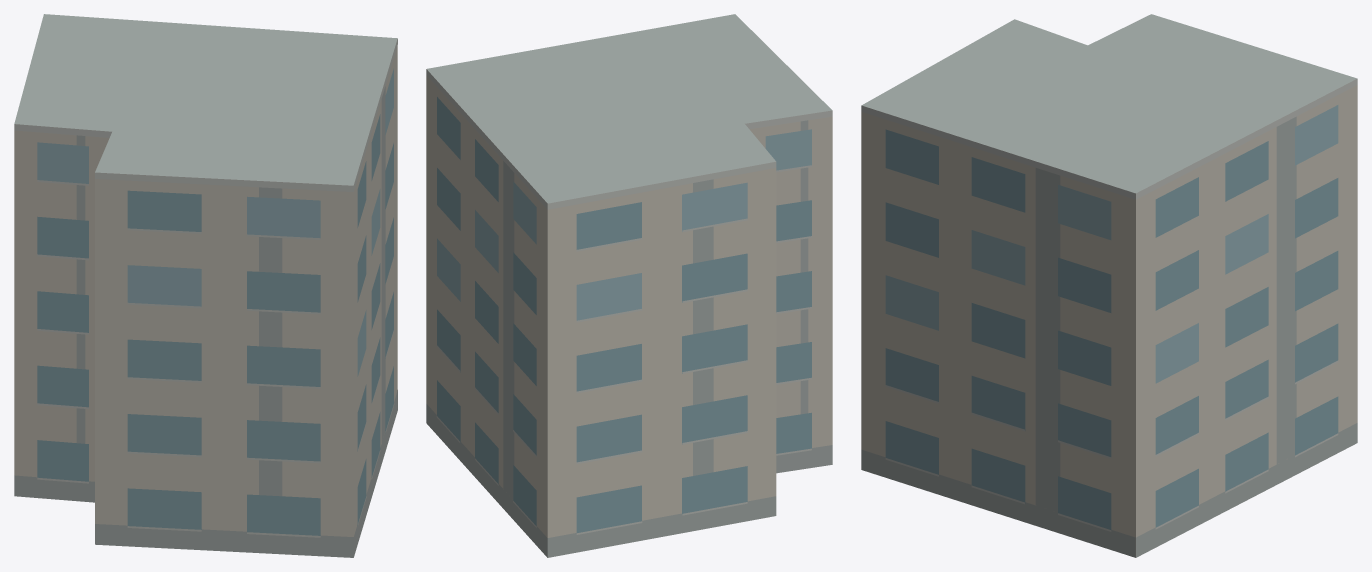
File: survey-upis-33006635.glb
3 views of the same model, side by side, from view 1: azimuth 30°, elevation 25°; view 2: azimuth 150°, elevation 25°; view 3: azimuth 270°, elevation 25° (orthographic). The views are drawn at different scales.
Parts seen in each view (by area): view 1: survey-upis-33006635.tmp; view 2: survey-upis-33006635.tmp; view 3: survey-upis-33006635.tmp.
Boxes of the visible parts, left/top/right/bottom form: survey-upis-33006635.tmp: left=14, top=14, right=397, bottom=557; survey-upis-33006635.tmp: left=426, top=14, right=832, bottom=557; survey-upis-33006635.tmp: left=861, top=14, right=1357, bottom=557.
Size of the model in its own units: 14.87 by 14.07 by 17.37.
